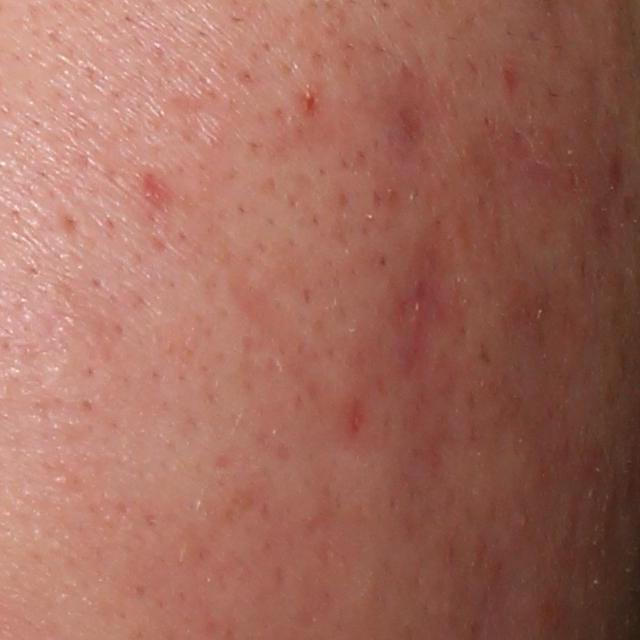atrophic_scar: (223, 263, 345, 419), (473, 118, 617, 243), (396, 233, 467, 372), (160, 90, 237, 172)
